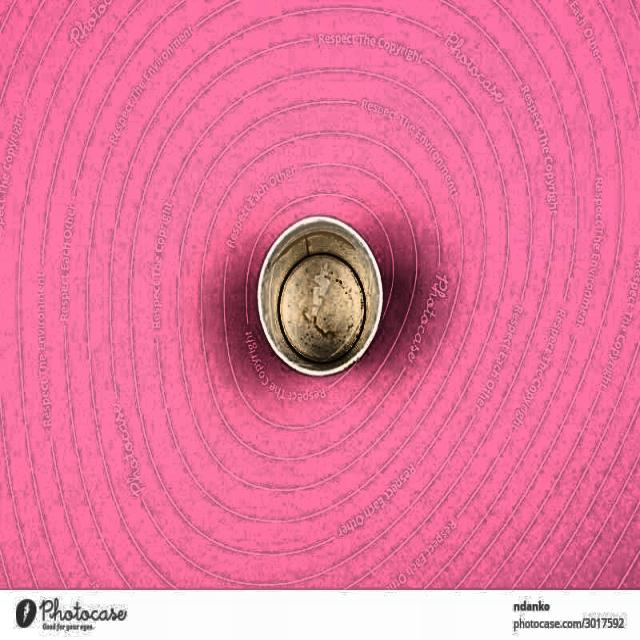Cup: (251, 214, 395, 398)
